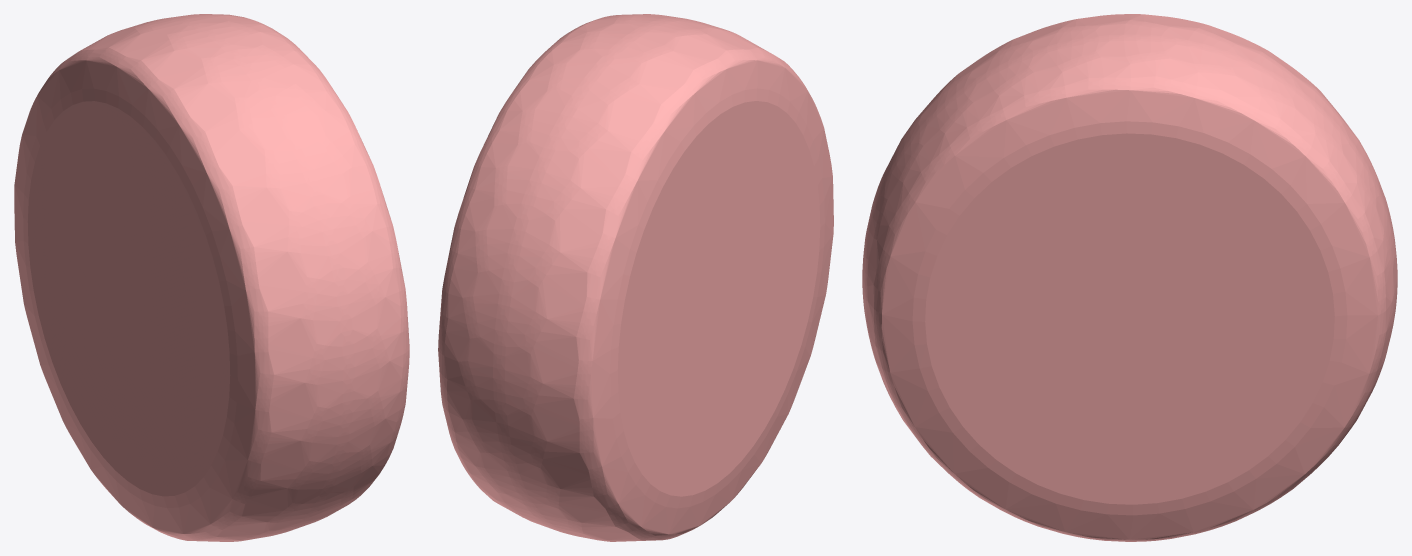
Rendered from rambler_Rueda3dyn_coll_1.dae.
3 views of the same model, side by side, from view 1: azimuth 30°, elevation 25°; view 2: azimuth 150°, elevation 25°; view 3: azimuth 270°, elevation 25° (orthographic).
Parts seen in each view (by area): view 1: Node_0x7fe0fc4d5380; view 2: Node_0x7fe0fc4d5380; view 3: Node_0x7fe0fc4d5380.
Part boxes in pixels (left/top/right/bottom): Node_0x7fe0fc4d5380: left=14, top=14, right=409, bottom=541; Node_0x7fe0fc4d5380: left=438, top=14, right=833, bottom=541; Node_0x7fe0fc4d5380: left=862, top=14, right=1397, bottom=541.
Size of the model in its own units: 0.1941 by 0.5333 by 0.5333.
